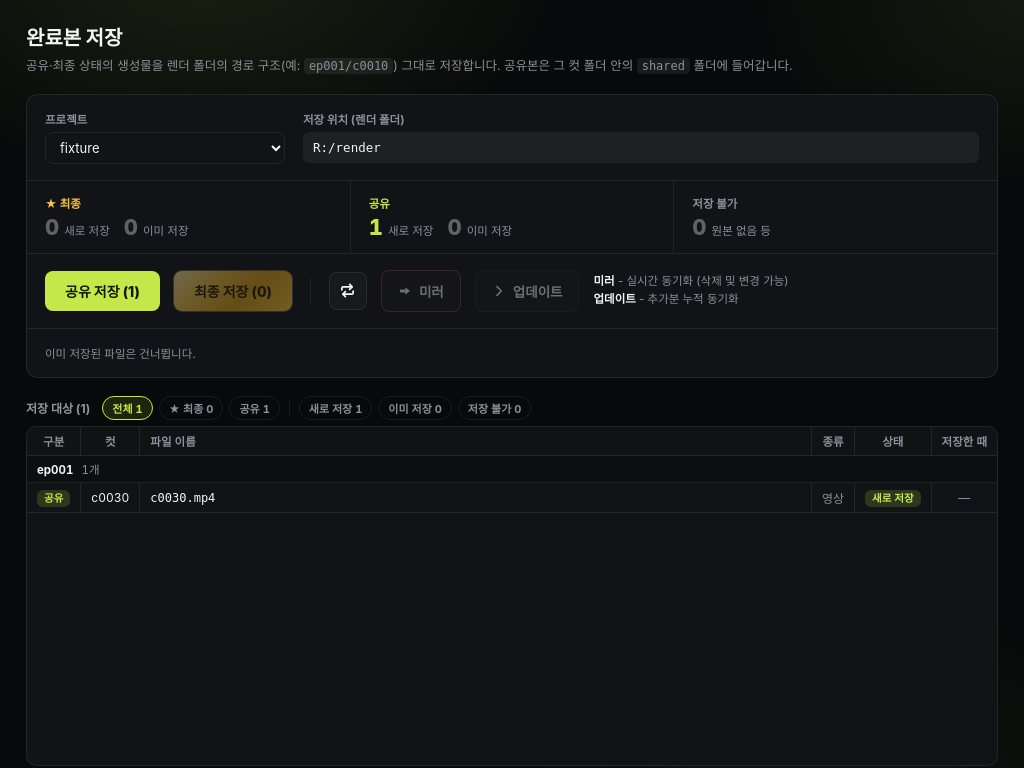
Test: 저장이 도는 동안 진행률과 취소 단추가 보이고, 취소는 그 실행 세대로 보낸다
Check: the text with class "export-progress" shows "이미 저장된 파일은 건너뜁니다", box [45,347,196,361]
Click the button "공유 저장 (1)".
click(102, 291)  # box [45,271,160,311]
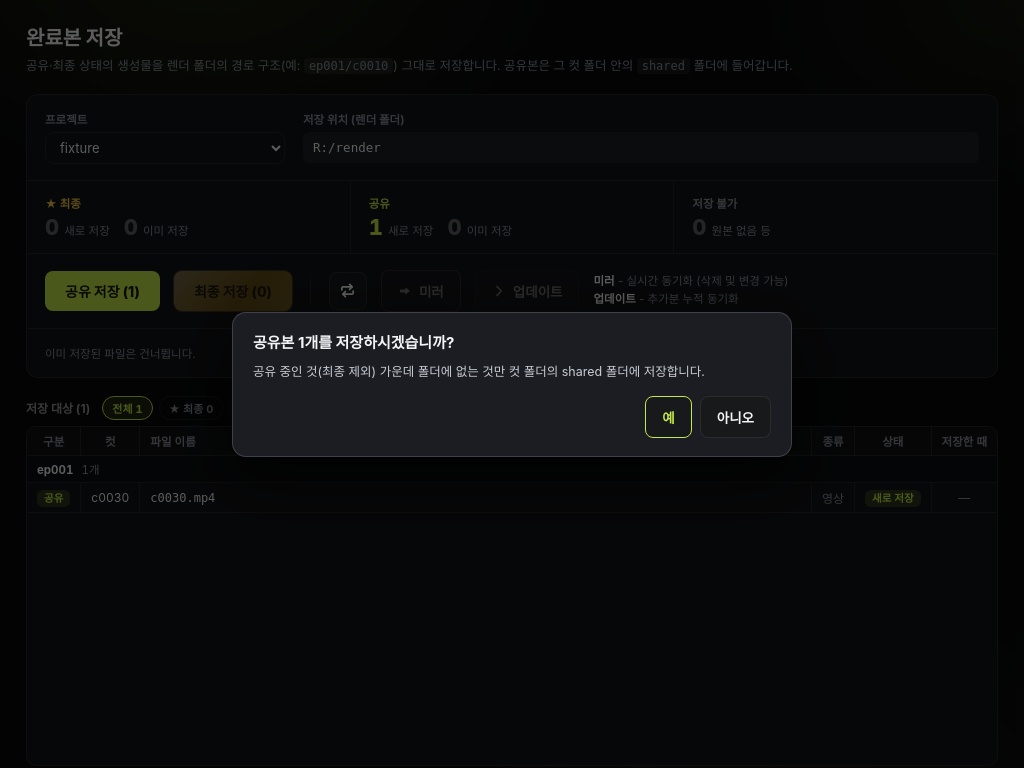
Click the button "예".
click(668, 416)  # box [645,396,692,438]
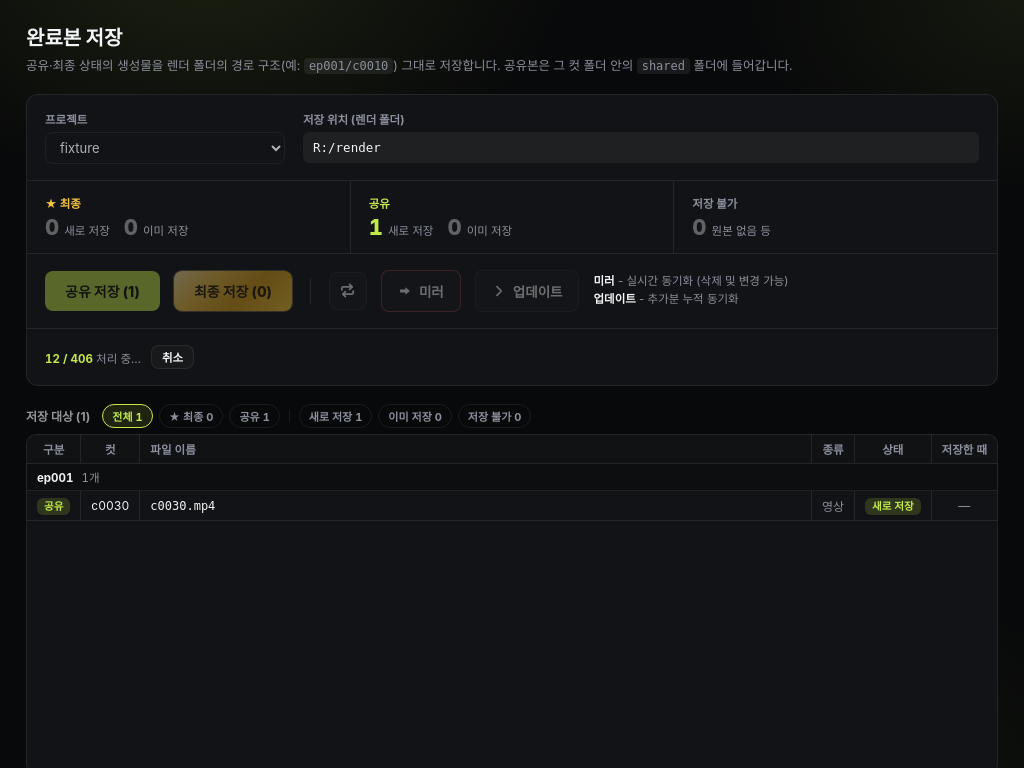
Check: the element with class "export-progress" shows "12 / 406", box [27,328,997,385]
Check: the element with class "export-progress" shows "처리 중", box [96,352,131,366]
Click the button with class "export-cancel".
click(173, 357)  # box [151,345,194,369]
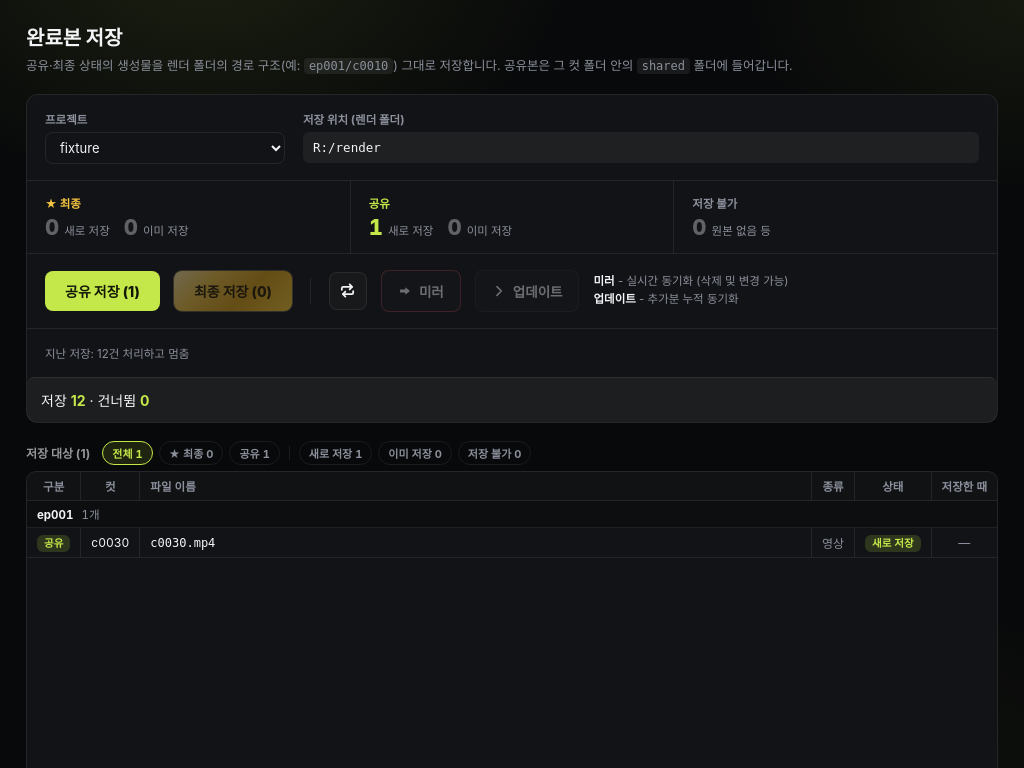
Check: the button with class "export-cancel" is gone
